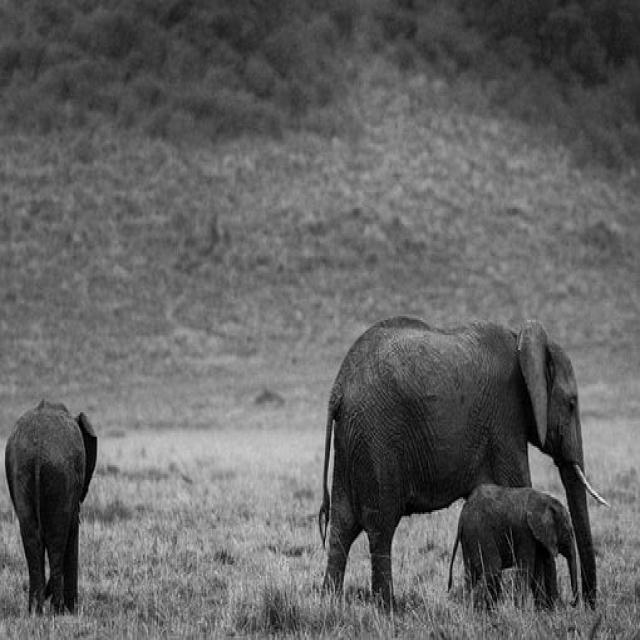Elephant: (306, 255, 623, 640), (4, 374, 120, 633), (446, 468, 586, 628)
